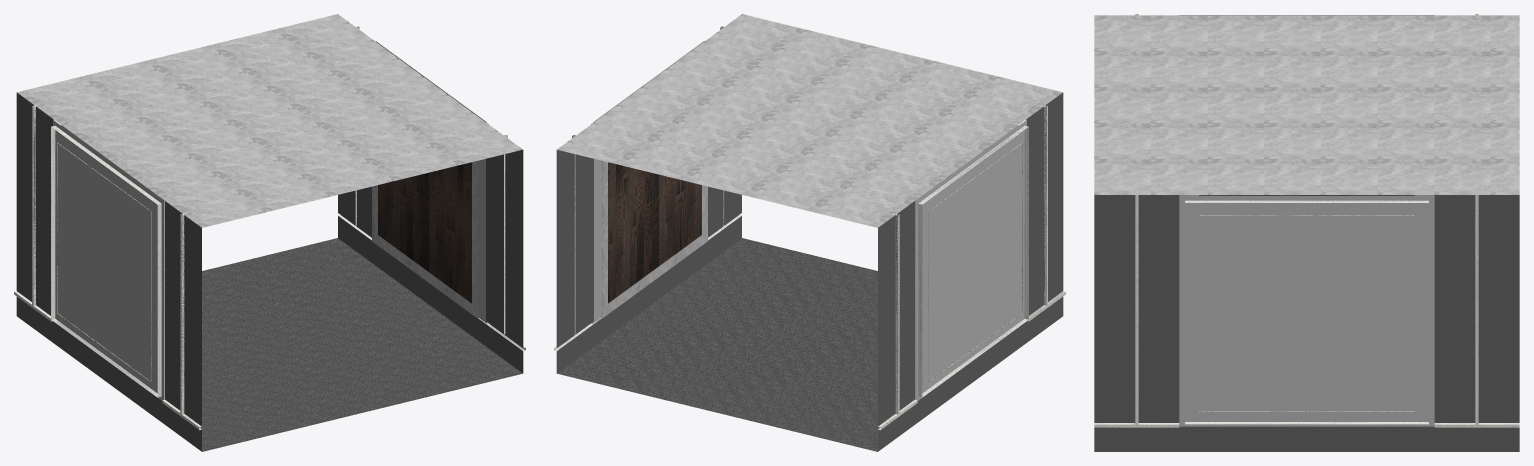
3 views of the same model, side by side, from view 1: azimuth 30°, elevation 25°; view 2: azimuth 150°, elevation 25°; view 3: azimuth 270°, elevation 25° (orthographic). The views are drawn at different scales.
Parts seen in each view (by area): view 1: instance_0.002, instance_3, instance_2.011, instance_1.013, instance_1.012, instance_2.012, instance_1.005, instance_2.005, instance_2.004, instance_2, instance_1, instance_2.008 (+8 smaller); view 2: instance_0.002, instance_3, instance_2.011, instance_1.013, instance_1.012, instance_2.012, instance_1.004, instance_2.004, instance_2.005, instance_2.008, instance_1.008, instance_2 (+8 smaller); view 3: instance_0.002, instance_1.011, instance_1.012, instance_1, instance_1.004, instance_1.005, instance_1.008, instance_1.001, instance_1.003, instance_1.014.
Boxes of the visible parts, x1=… form: instance_0.002: x1=17, y1=14, x2=522, y2=227; instance_3: x1=199, y1=238, x2=522, y2=451; instance_2.011: x1=53, y1=120, x2=164, y2=400; instance_1.013: x1=378, y1=162, x2=471, y2=303; instance_1.012: x1=338, y1=216, x2=523, y2=373; instance_2.012: x1=16, y1=297, x2=201, y2=451; instance_1.005: x1=505, y1=150, x2=523, y2=347; instance_2.005: x1=184, y1=215, x2=201, y2=426; instance_2.004: x1=16, y1=92, x2=33, y2=301; instance_2: x1=165, y1=201, x2=182, y2=410; instance_1: x1=486, y1=154, x2=503, y2=333; instance_2.008: x1=36, y1=106, x2=53, y2=315; instance_0.002: x1=557, y1=14, x2=1062, y2=227; instance_3: x1=557, y1=238, x2=880, y2=451; instance_2.011: x1=915, y1=120, x2=1026, y2=400; instance_1.013: x1=608, y1=162, x2=701, y2=303; instance_1.012: x1=556, y1=216, x2=741, y2=373; instance_2.012: x1=878, y1=297, x2=1063, y2=451; instance_1.004: x1=556, y1=150, x2=574, y2=347; instance_2.004: x1=878, y1=215, x2=895, y2=426; instance_2.005: x1=1046, y1=92, x2=1063, y2=301; instance_2.008: x1=897, y1=201, x2=914, y2=410; instance_1.008: x1=576, y1=154, x2=593, y2=333; instance_2: x1=1026, y1=106, x2=1043, y2=315; instance_0.002: x1=1094, y1=15, x2=1519, y2=194; instance_1.011: x1=1179, y1=195, x2=1434, y2=426; instance_1.012: x1=1094, y1=426, x2=1519, y2=451; instance_1: x1=1138, y1=195, x2=1179, y2=422; instance_1.004: x1=1478, y1=195, x2=1519, y2=422; instance_1.005: x1=1094, y1=195, x2=1135, y2=422; instance_1.008: x1=1434, y1=195, x2=1475, y2=422; instance_1.001: x1=1094, y1=196, x2=1519, y2=427; instance_1.003: x1=1185, y1=200, x2=1428, y2=424; instance_1.014: x1=1199, y1=215, x2=1414, y2=411.
Size of the model in its own units: 4.73 by 3.05 by 4.57.
9 materials, 4 textured.
